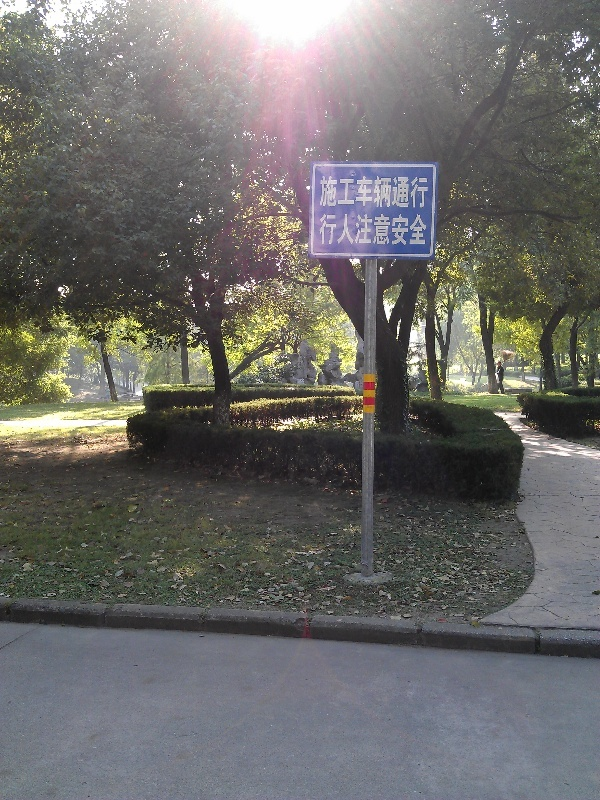text: (321, 213, 336, 247), (337, 213, 352, 247), (353, 213, 368, 247), (369, 213, 384, 247), (385, 213, 400, 247), (401, 213, 416, 247), (321, 176, 336, 209), (337, 176, 352, 209), (353, 176, 368, 209), (369, 176, 384, 209), (385, 176, 400, 209), (401, 176, 416, 209), (417, 176, 430, 209), (417, 213, 428, 247), (318, 213, 320, 247), (319, 176, 320, 209)
